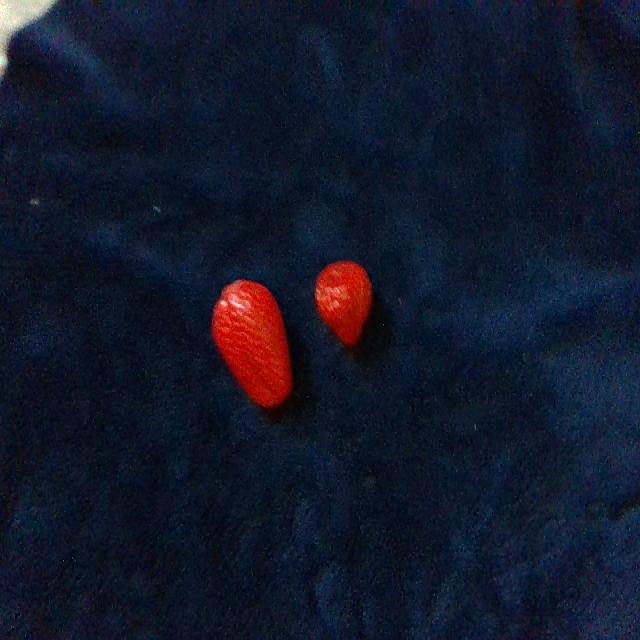chica_roja: (315, 261, 372, 343)
grande_roja: (212, 280, 292, 407)
